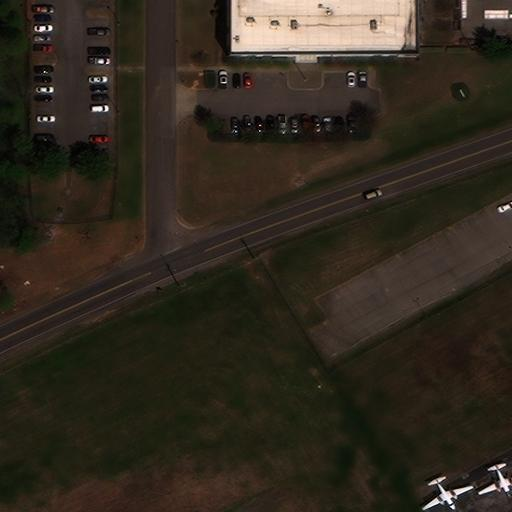Medium Civil Transport: (422, 476, 474, 510), (478, 462, 512, 496)
